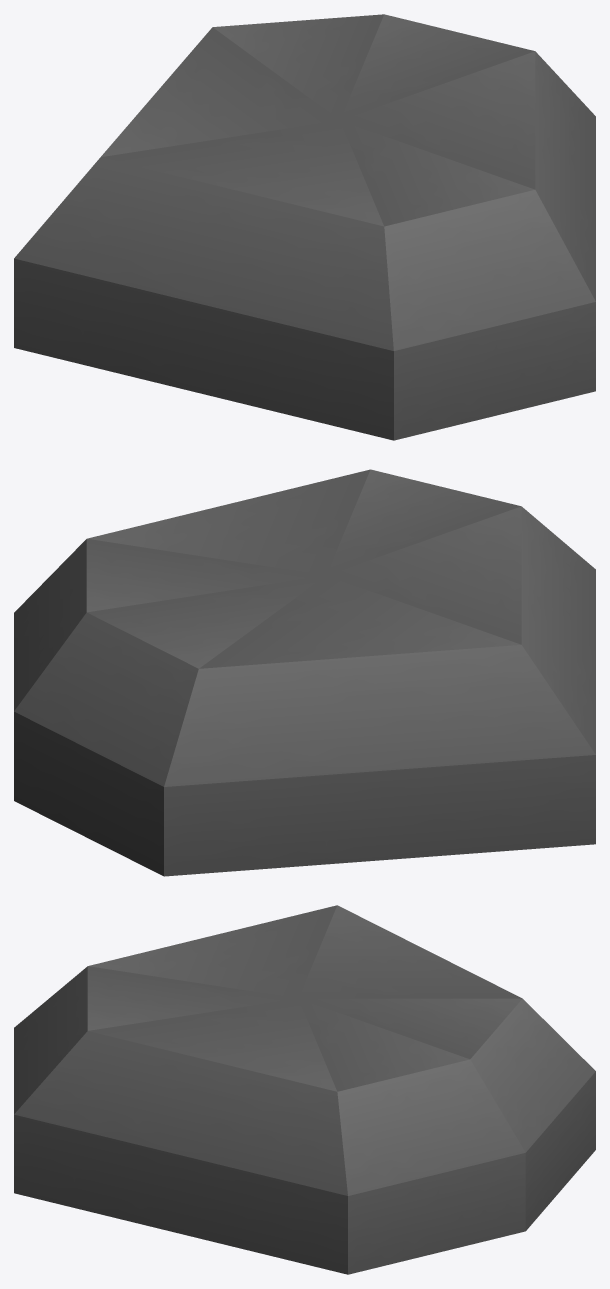
File: pack02_rocks_16.fbx
The picture shows the model from 3 angles, top to bottom: view 1: azimuth 30°, elevation 25°; view 2: azimuth 150°, elevation 25°; view 3: azimuth 270°, elevation 25°; orthographic projection. The views are drawn at different scales.
Visible parts, largest first — view 1: Rock Type4 04 mesh; view 2: Rock Type4 04 mesh; view 3: Rock Type4 04 mesh.
Part boxes in pixels (<box>): Rock Type4 04 mesh: <box>14,14,595,440</box>; Rock Type4 04 mesh: <box>14,469,595,876</box>; Rock Type4 04 mesh: <box>14,905,595,1274</box>.
Size of the model in its own units: 118 by 34.14 by 117.
1 material, 1 textured.
